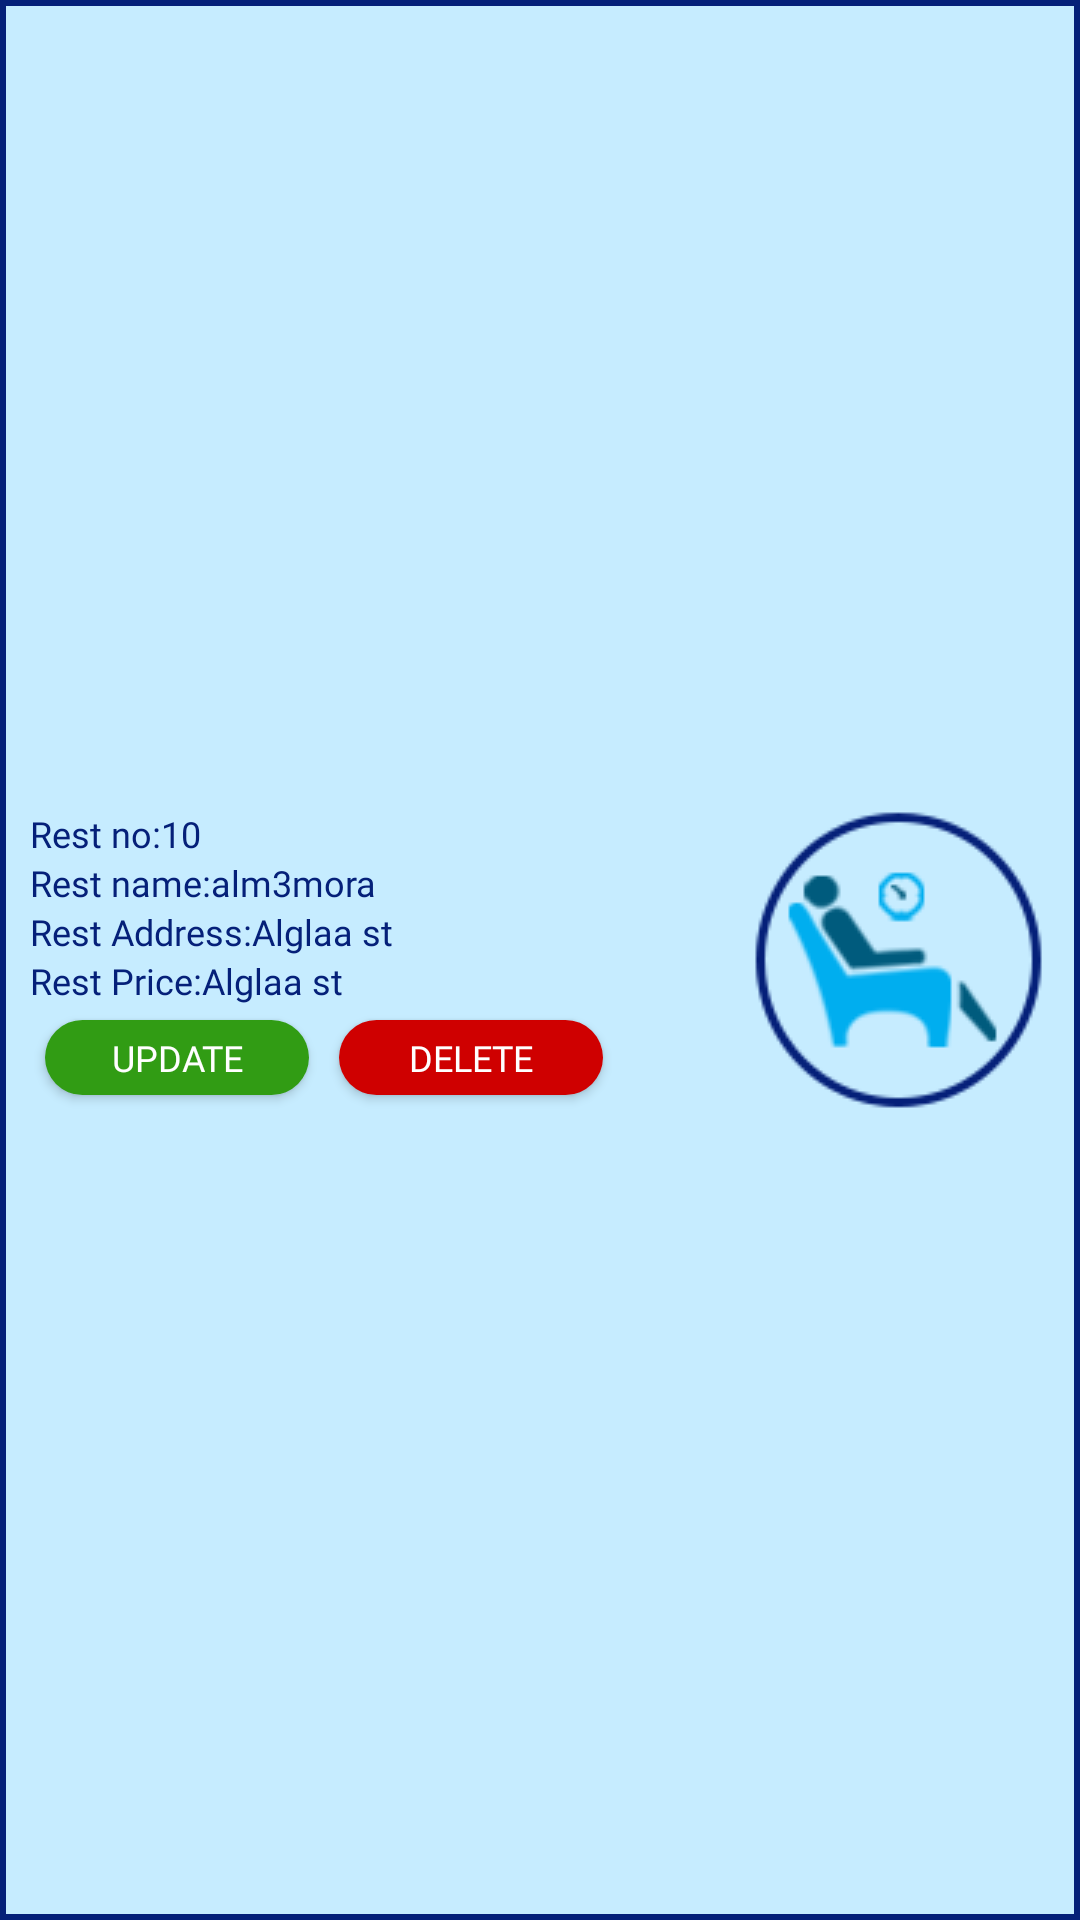

Where icons sit on this 1080px x 1920px app screen, as (x1, y1, x2, y2):
esteraha: (755, 812, 1042, 1108)
